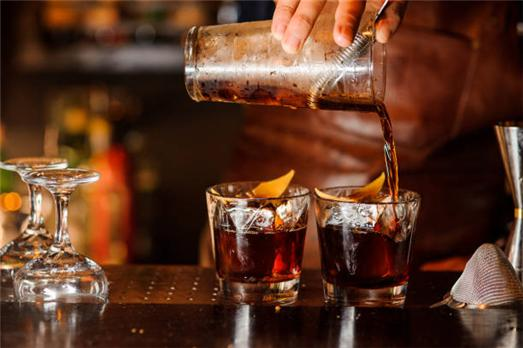alcohol: (187, 18, 389, 109), (310, 188, 420, 309), (205, 180, 309, 306)
